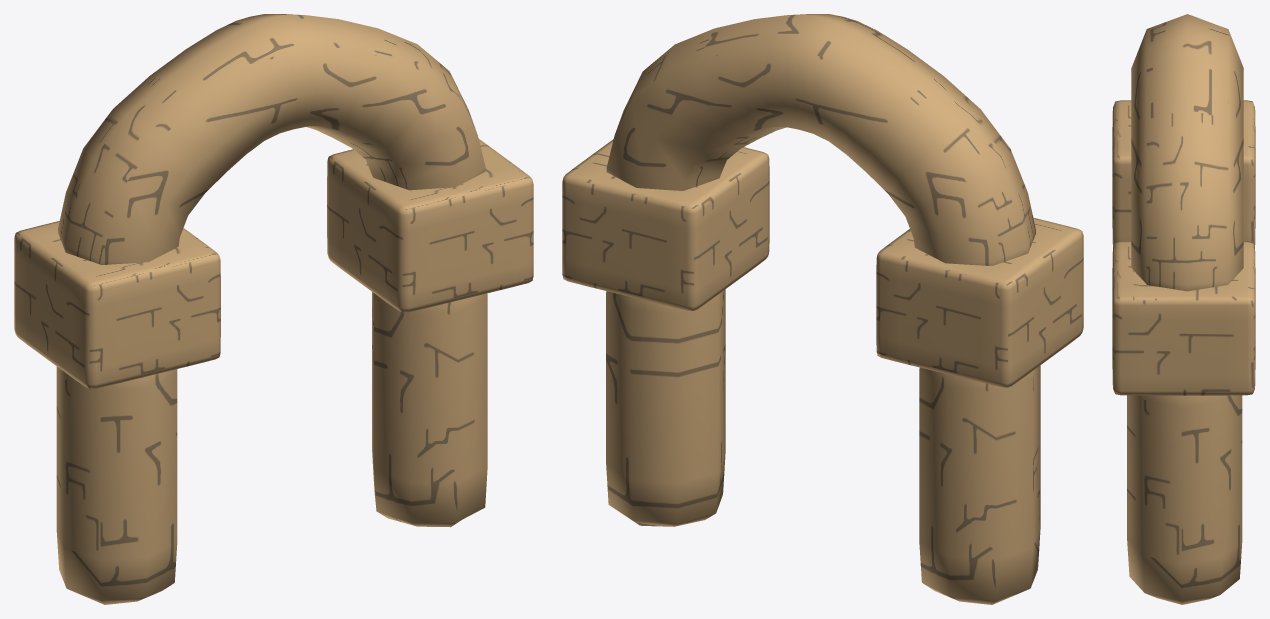
The model's file is Mesh_Archway2.glb.
3 renders of one model, left to right at view 1: azimuth 30°, elevation 25°; view 2: azimuth 150°, elevation 25°; view 3: azimuth 270°, elevation 25°, orthographic. The views are drawn at different scales.
Visible parts, largest first — view 1: Cube.021-col; view 2: Cube.021-col; view 3: Cube.021-col.
Part boxes in pixels (x1,y1,x2,y2): Cube.021-col: (14, 14, 533, 604); Cube.021-col: (562, 14, 1083, 604); Cube.021-col: (1112, 14, 1255, 604).
Size of the model in its own units: 24.6 by 27.94 by 7.39.
Materials: 1 (1 with a texture image).
